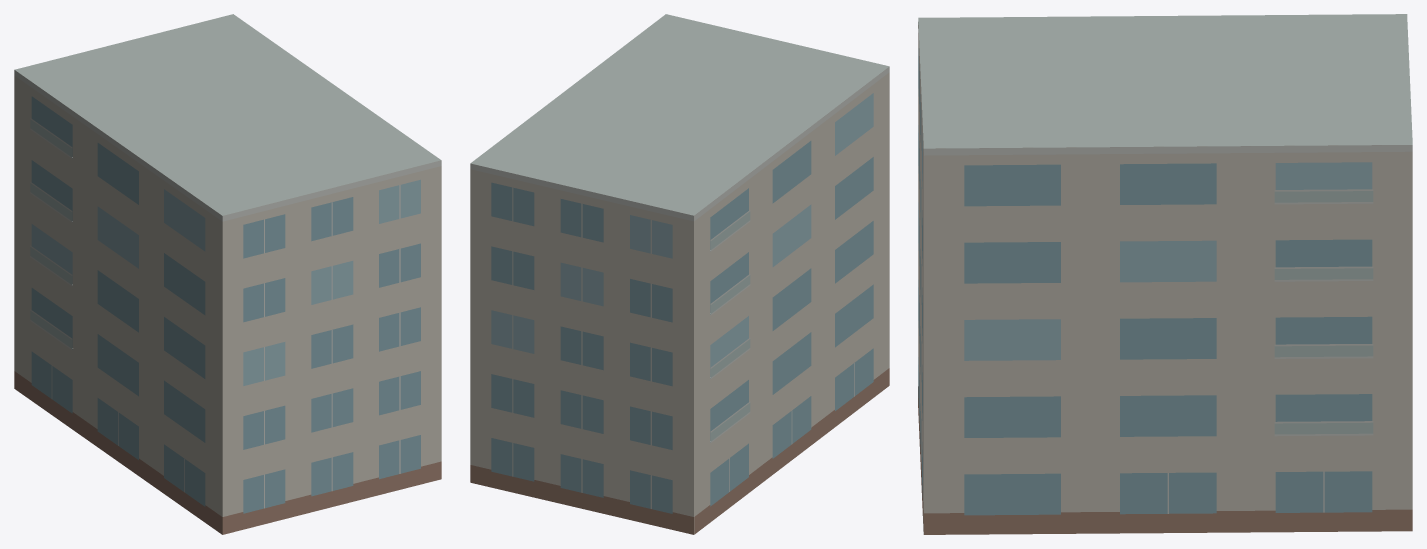
The model's file is survey-upis-32610848.glb.
3 views of the same model, side by side, from view 1: azimuth 30°, elevation 25°; view 2: azimuth 150°, elevation 25°; view 3: azimuth 270°, elevation 25° (orthographic). The views are drawn at different scales.
Visible parts, largest first — view 1: survey-upis-32610848.tmp; view 2: survey-upis-32610848.tmp; view 3: survey-upis-32610848.tmp.
Boxes of the visible parts, box(x1,y1,x2,y2) form: survey-upis-32610848.tmp: box(14, 14, 441, 534); survey-upis-32610848.tmp: box(470, 14, 889, 534); survey-upis-32610848.tmp: box(918, 14, 1412, 534).
Size of the model in its own units: 10.14 by 13.55 by 15.73.
